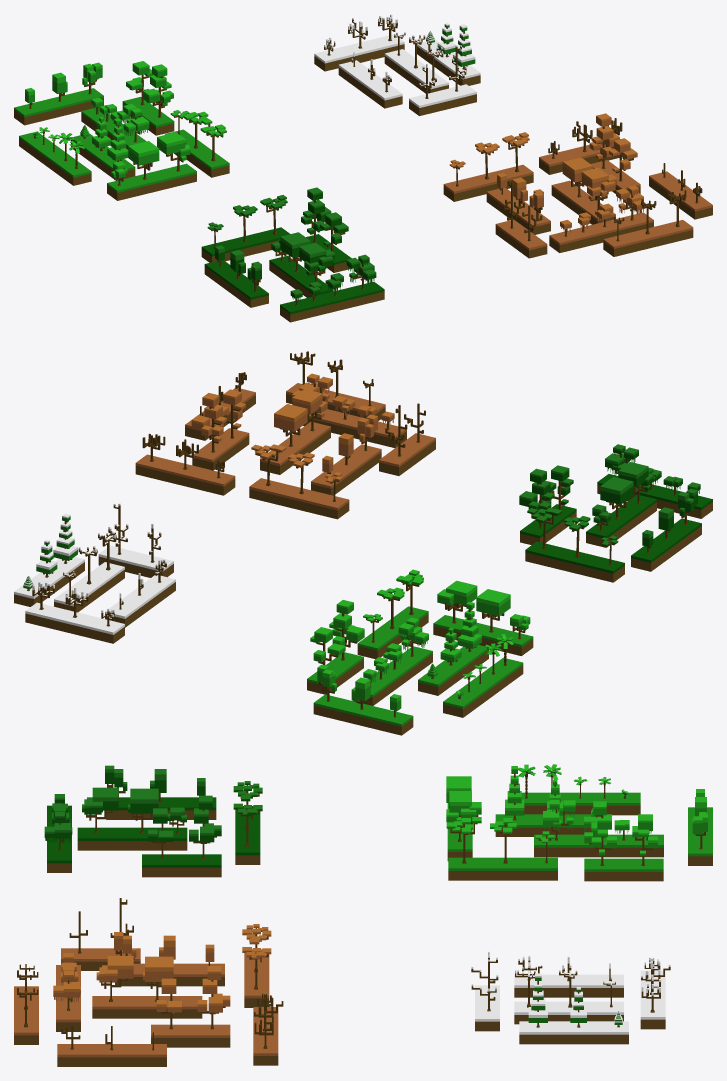
File: trees.fbx
The picture shows the model from 3 angles, top to bottom: view 1: azimuth 30°, elevation 25°; view 2: azimuth 150°, elevation 25°; view 3: azimuth 270°, elevation 25°; orthographic projection. The views are drawn at different scales.
Visible parts, largest first — view 1: Cube.016, Cube.021, Cube.022, Cube.003, Cube.005, Cube.001, Cube.011, Cube.018, Cube.010, Cube.012, Cube.025, Cube.013 (+31 smaller); view 2: Cube.001, Cube.030, Cube.018, Cube.011, Cube.013, Cube.005, Cube.012, Cube.007, Cube.010, Cube.014, Cube.006, Cube.017 (+29 smaller); view 3: Cube.002, Cube.024, Cube.025, Cube.007, Cube.014, Cube.010, Cube.019, Cube.005, Cube.015, Cube.004, Cube.020, Cube.008 (+32 smaller).
Boxes of the visible parts, x1,y1,x2,y2 form: Cube.016: [280, 281, 384, 322]; Cube.021: [549, 212, 653, 252]; Cube.022: [603, 220, 693, 256]; Cube.003: [107, 163, 196, 200]; Cube.005: [19, 131, 91, 185]; Cube.001: [14, 88, 103, 125]; Cube.011: [314, 34, 404, 71]; Cube.018: [443, 164, 533, 201]; Cube.010: [338, 60, 402, 108]; Cube.012: [204, 260, 268, 307]; Cube.025: [649, 171, 712, 219]; Cube.013: [201, 227, 290, 262]; Cube.001: [313, 694, 413, 735]; Cube.030: [135, 454, 235, 495]; Cube.018: [249, 478, 349, 519]; Cube.011: [25, 602, 124, 643]; Cube.013: [525, 541, 624, 582]; Cube.005: [443, 657, 523, 717]; Cube.012: [631, 518, 701, 571]; Cube.007: [353, 646, 432, 705]; Cube.010: [105, 575, 175, 627]; Cube.014: [586, 494, 656, 547]; Cube.006: [418, 645, 488, 695]; Cube.017: [311, 444, 381, 495]; Cube.002: [448, 857, 557, 880]; Cube.024: [519, 1021, 628, 1044]; Cube.025: [57, 1044, 166, 1066]; Cube.007: [534, 834, 663, 857]; Cube.014: [77, 827, 187, 850]; Cube.010: [514, 974, 623, 997]; Cube.019: [92, 996, 202, 1018]; Cube.005: [521, 792, 640, 815]; Cube.015: [142, 854, 221, 877]; Cube.004: [584, 858, 663, 881]; Cube.020: [151, 1024, 230, 1047]; Cube.008: [514, 1001, 623, 1024].
Bounding box in the file's own units: 30150 × 3907 × 33994.
8 materials, 8 textured.
